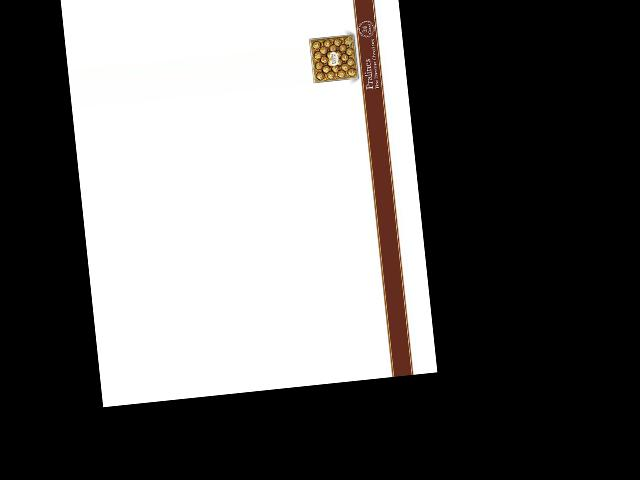chocolate: (305, 30, 361, 85)
